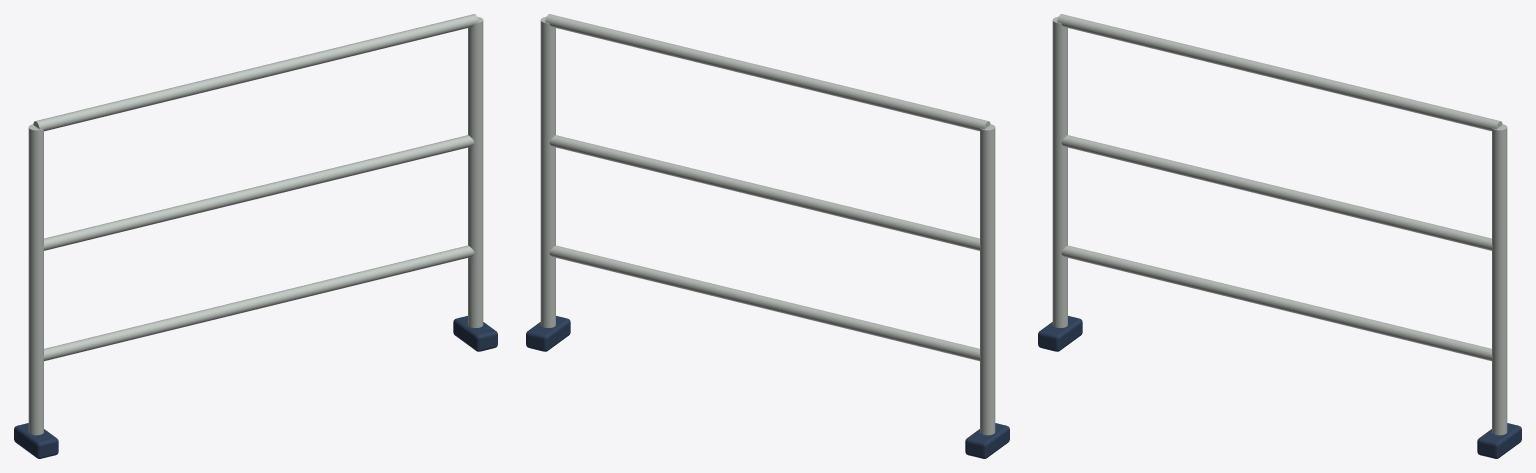
Rendered from planetarium-and-optical-observatory-observation-terrac-e3af7d48__31867.glb.
3 views of the same model, side by side, from view 1: azimuth 30°, elevation 25°; view 2: azimuth 150°, elevation 25°; view 3: azimuth 330°, elevation 25° (orthographic).
Parts seen in each view (by area): view 1: observation-terrace-rail; view 2: observation-terrace-rail; view 3: observation-terrace-rail.
Boxes of the visible parts, x1,y1,x2,y2 form: observation-terrace-rail: [14, 14, 497, 458]; observation-terrace-rail: [526, 14, 1009, 458]; observation-terrace-rail: [1038, 14, 1521, 458].
Bounding box in the file's own units: 1.58 × 1.07 × 0.15.
